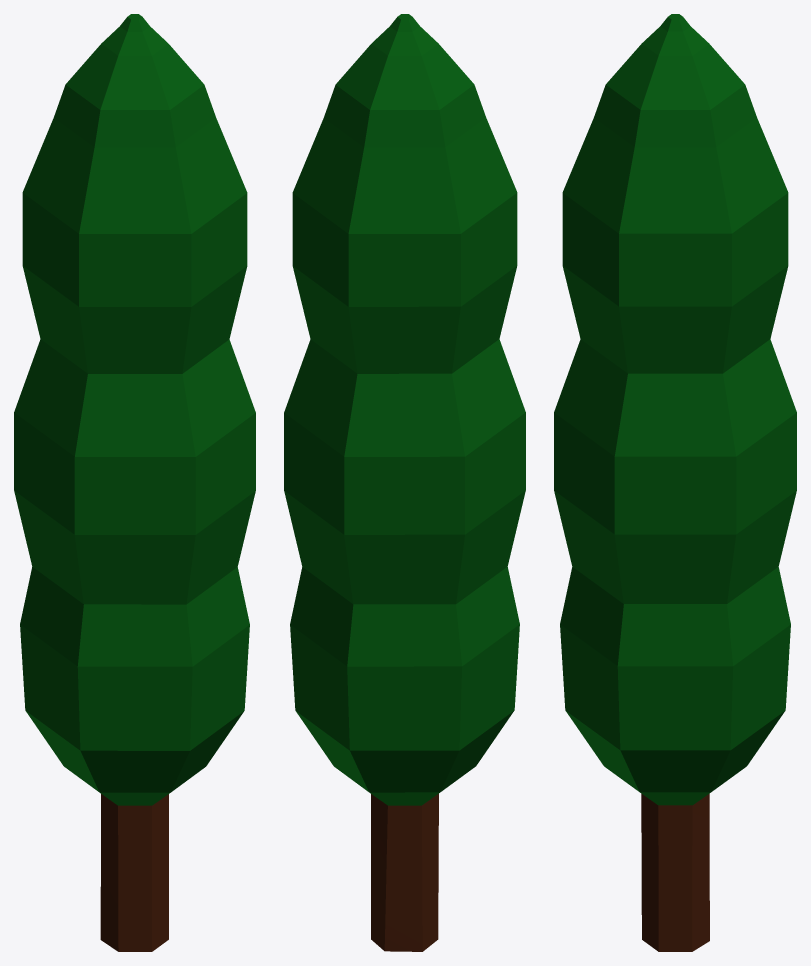
The model's file is Arbol1.FBX.
The picture shows the model from 3 angles, left to right: view 1: azimuth 30°, elevation 25°; view 2: azimuth 150°, elevation 25°; view 3: azimuth 270°, elevation 25°; orthographic projection.
Parts seen in each view (by area): view 1: Pino; view 2: Pino; view 3: Pino.
Boxes of the visible parts, bbox=[...] form: Pino: bbox=[14, 14, 255, 951]; Pino: bbox=[284, 14, 525, 951]; Pino: bbox=[554, 14, 796, 951].
Size of the model in its own units: 11250 by 54782 by 13074.
